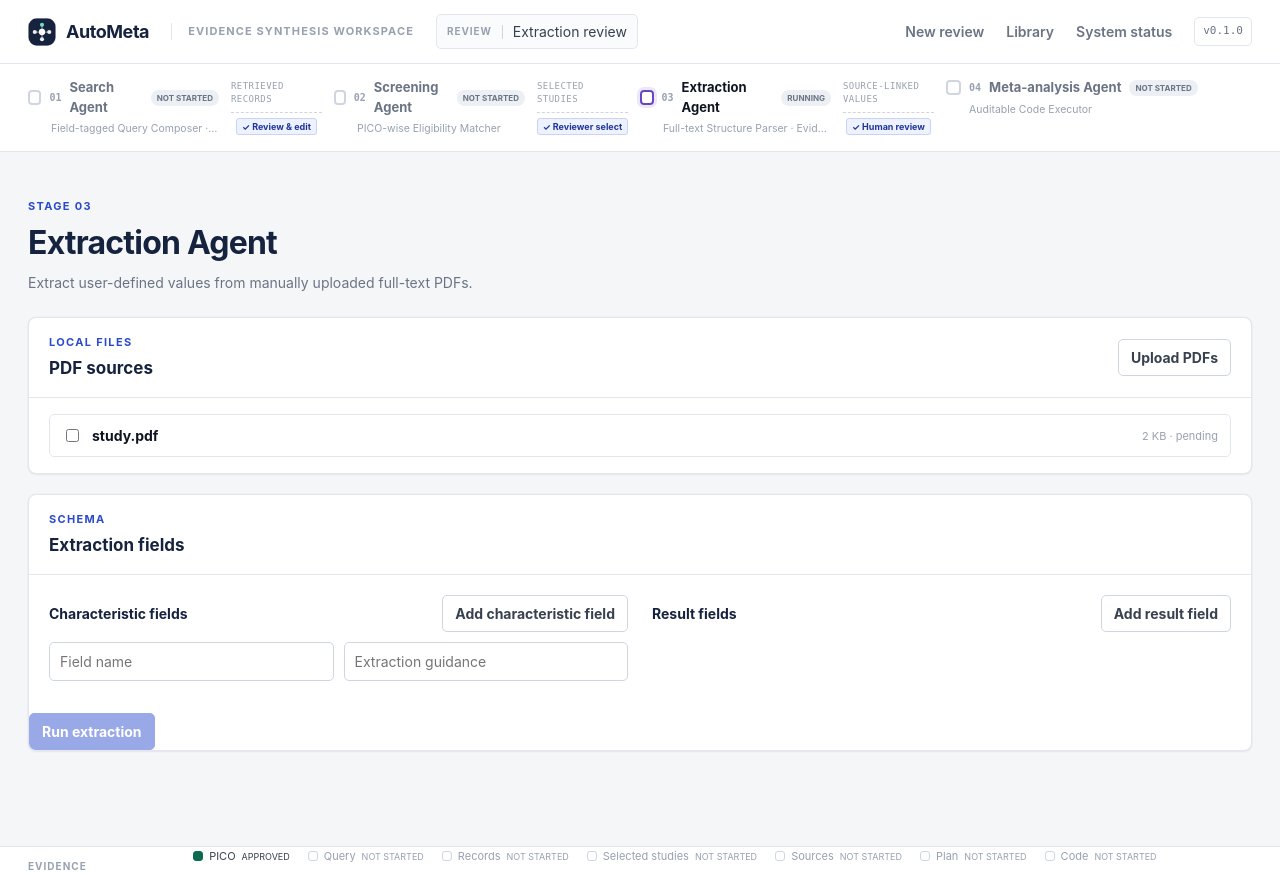
Test case: ExtractionPage › starts a persistent extraction job with selected PDFs and fields
This screenshot has width=1280, height=875.
Expected: the text "study.pdf" is shown, [92, 427, 158, 444]
Click the checkbox named "Use study.pdf" at [72, 436], box [66, 429, 79, 442]
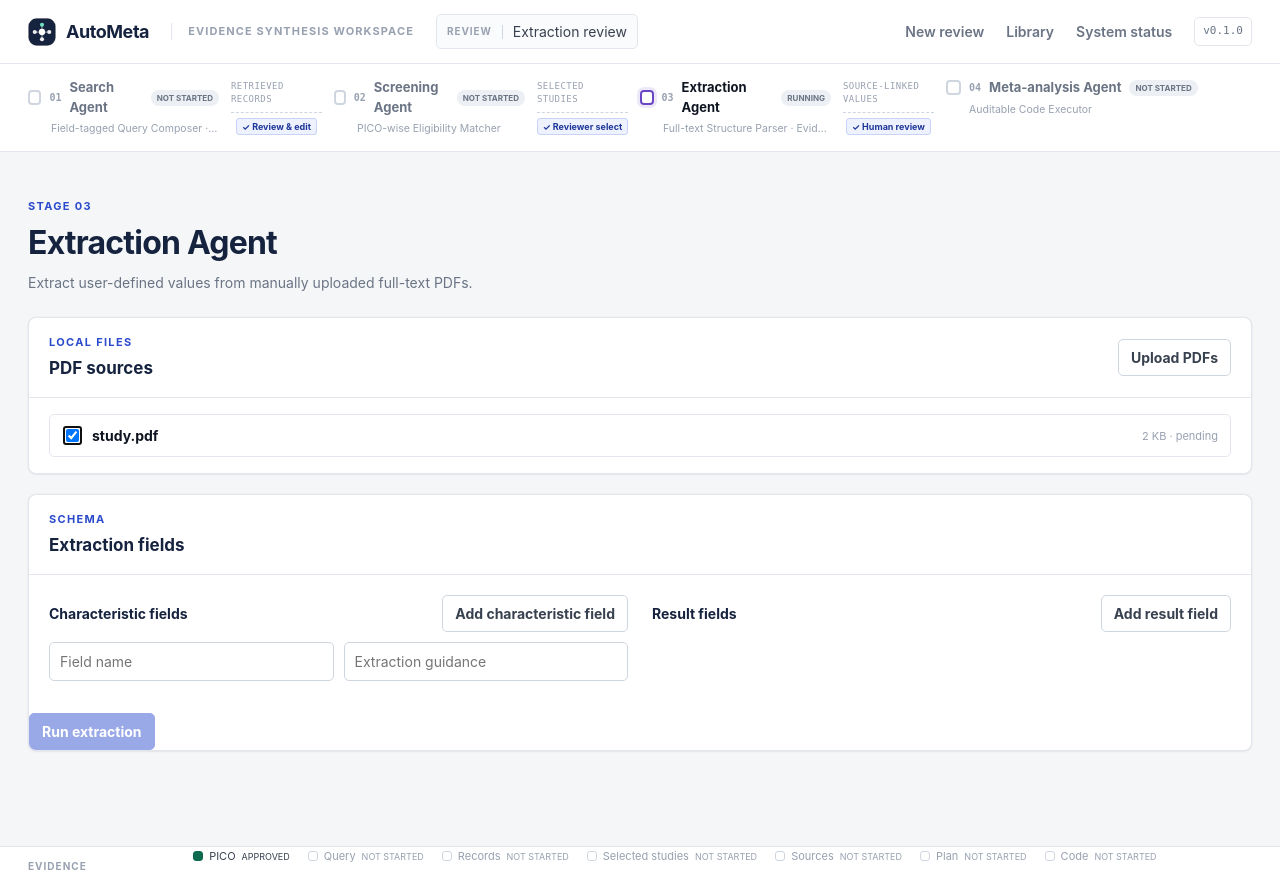
Type "Sample size" into the field named "Characteristic field name 1" at [191, 662], box [49, 642, 334, 681]
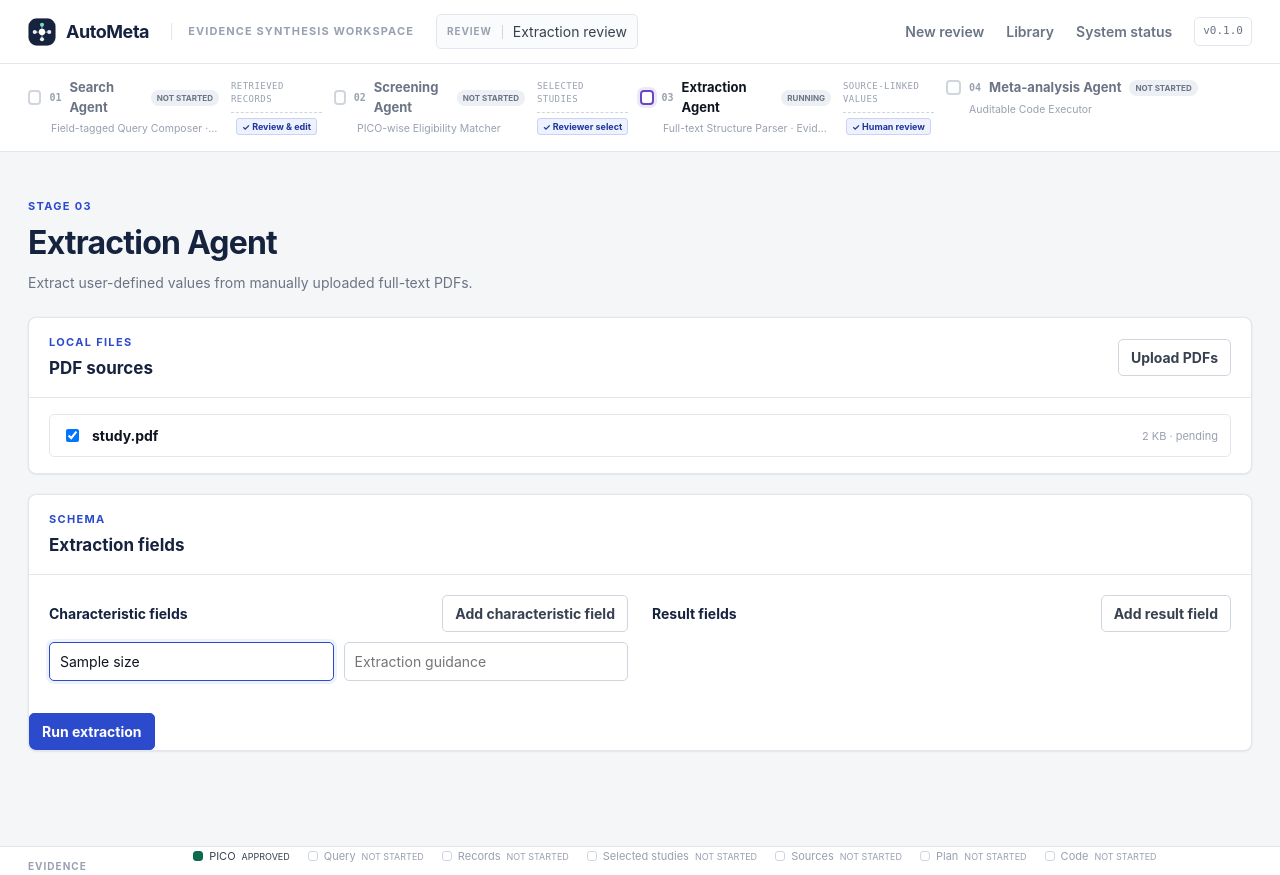
Click the button "Add result field" at [1166, 614], box [1101, 595, 1231, 632]
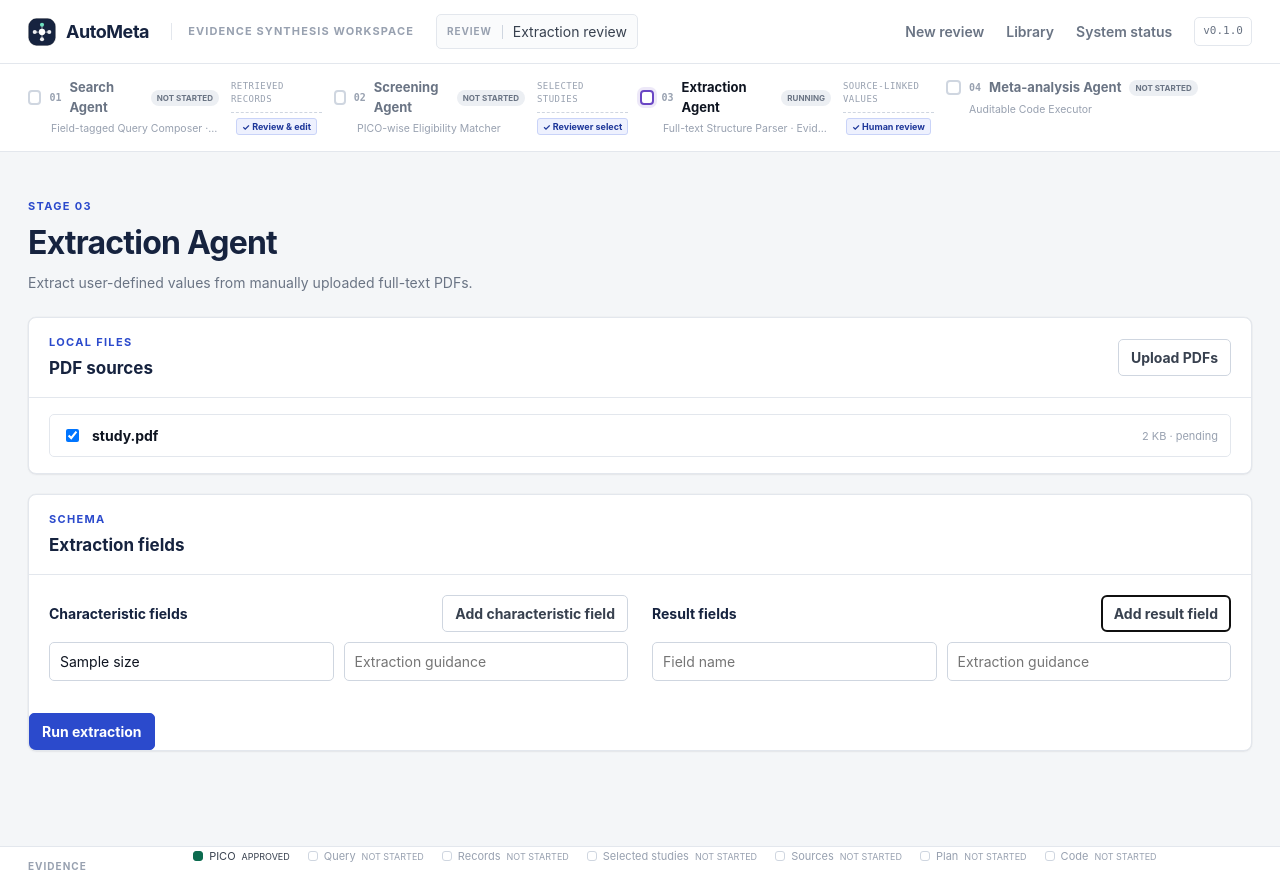
Type "Mean difference" into the field named "Result field name 1" at [794, 662], box [652, 642, 936, 681]
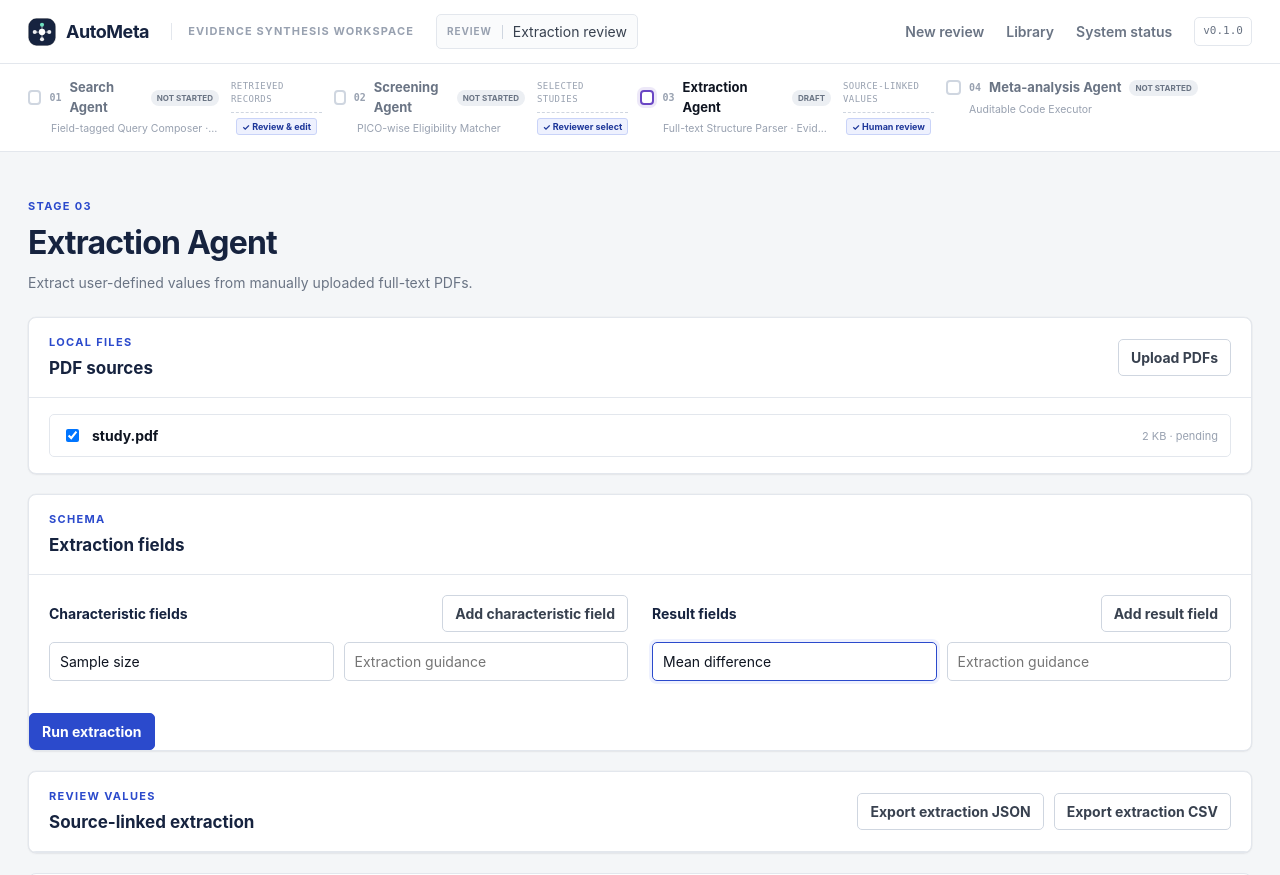
Click the button "Run extraction" at [92, 732], box [29, 713, 154, 750]
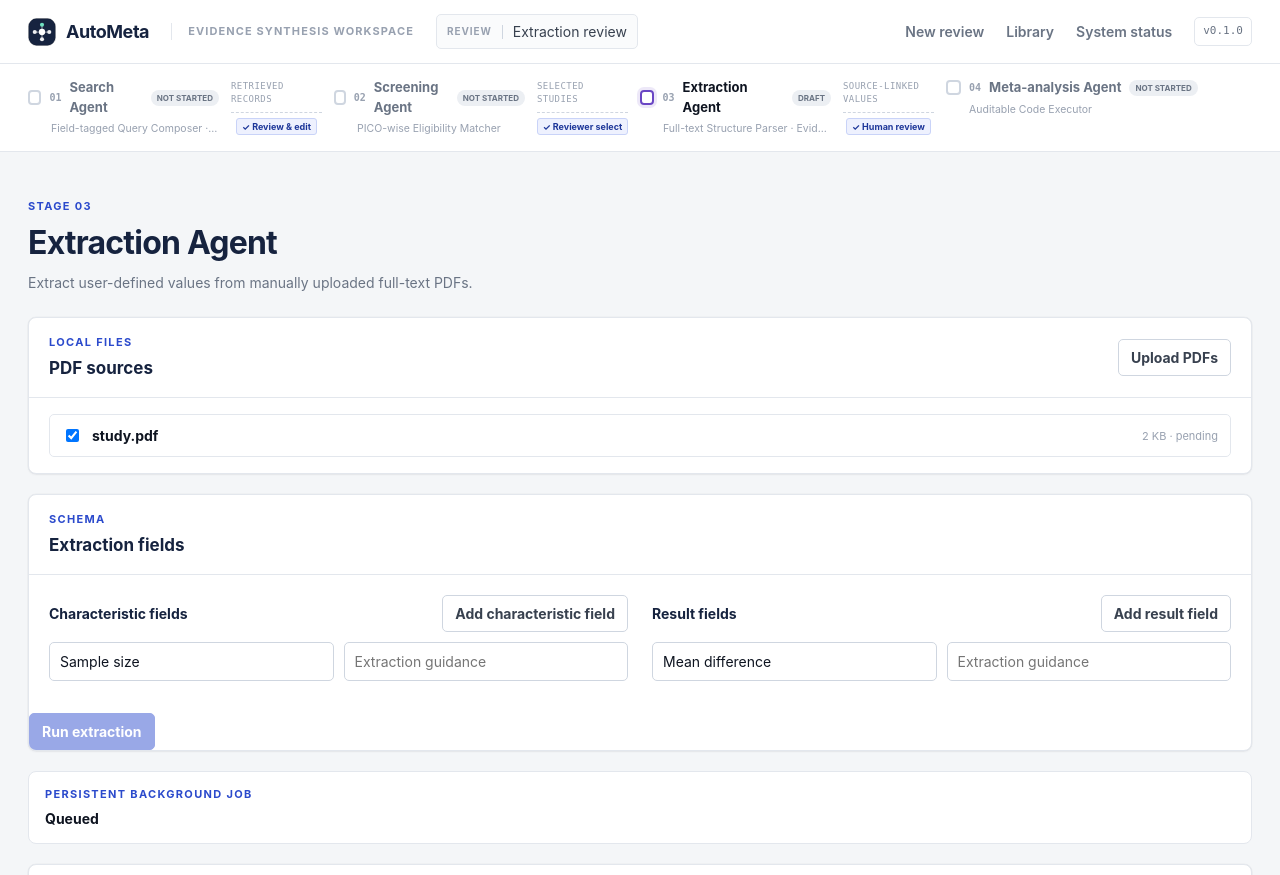
Now the text "Queued" is shown, box [45, 810, 99, 827]
